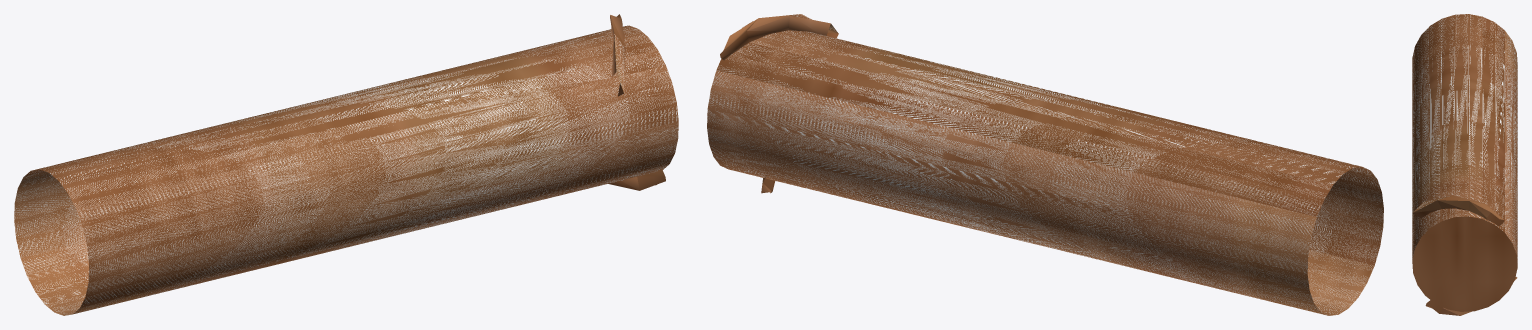
The model's file is original-538.obj.
3 renders of one model, left to right at view 1: azimuth 30°, elevation 25°; view 2: azimuth 150°, elevation 25°; view 3: azimuth 270°, elevation 25°, orthographic. The views are drawn at different scales.
Visible parts, largest first — view 1: mesh281/mesh281-geometry#mesh281-geometry; view 2: mesh281/mesh281-geometry#mesh281-geometry; view 3: mesh281/mesh281-geometry#mesh281-geometry.
Part boxes in pixels (box(x1,y1,x2,y2)): mesh281/mesh281-geometry#mesh281-geometry: box(14, 14, 678, 315); mesh281/mesh281-geometry#mesh281-geometry: box(707, 14, 1383, 315); mesh281/mesh281-geometry#mesh281-geometry: box(1412, 14, 1517, 315).
Size of the model in its own units: 0.0356 by 0.00941 by 0.00783.
